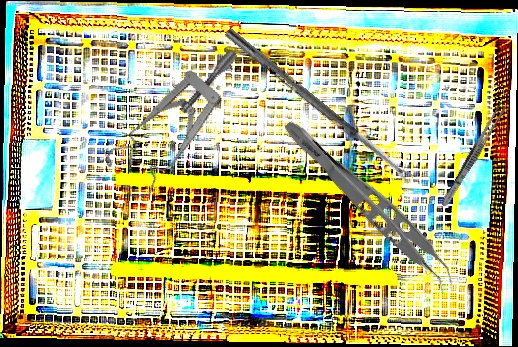Dressing Forceps: (439, 101, 508, 209)
Speculum: (85, 46, 275, 207)
Surgical Spoon: (223, 27, 415, 186)
Tissue Forceps: (269, 115, 466, 298)
